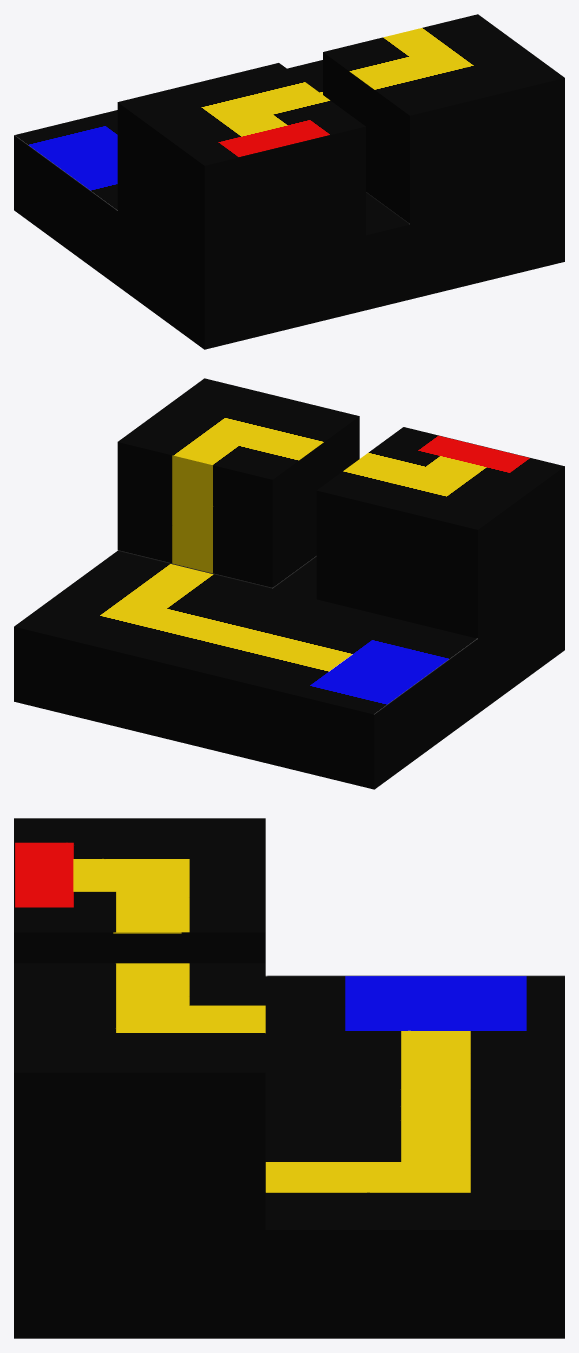
Rendered from Lv1_Pathed.fbx.
3 views of the same model, one above another, from view 1: azimuth 30°, elevation 25°; view 2: azimuth 150°, elevation 25°; view 3: azimuth 270°, elevation 25° (orthographic). The views are drawn at different scales.
Parts seen in each view (by area): view 1: BoxBrush; view 2: BoxBrush; view 3: BoxBrush.
Boxes of the visible parts, x1=… form: BoxBrush: x1=14, y1=14, x2=564, y2=349; BoxBrush: x1=14, y1=378, x2=564, y2=789; BoxBrush: x1=14, y1=818, x2=564, y2=1338.
Size of the model in its own units: 1005 by 490 by 920.
1 material, 1 textured.
